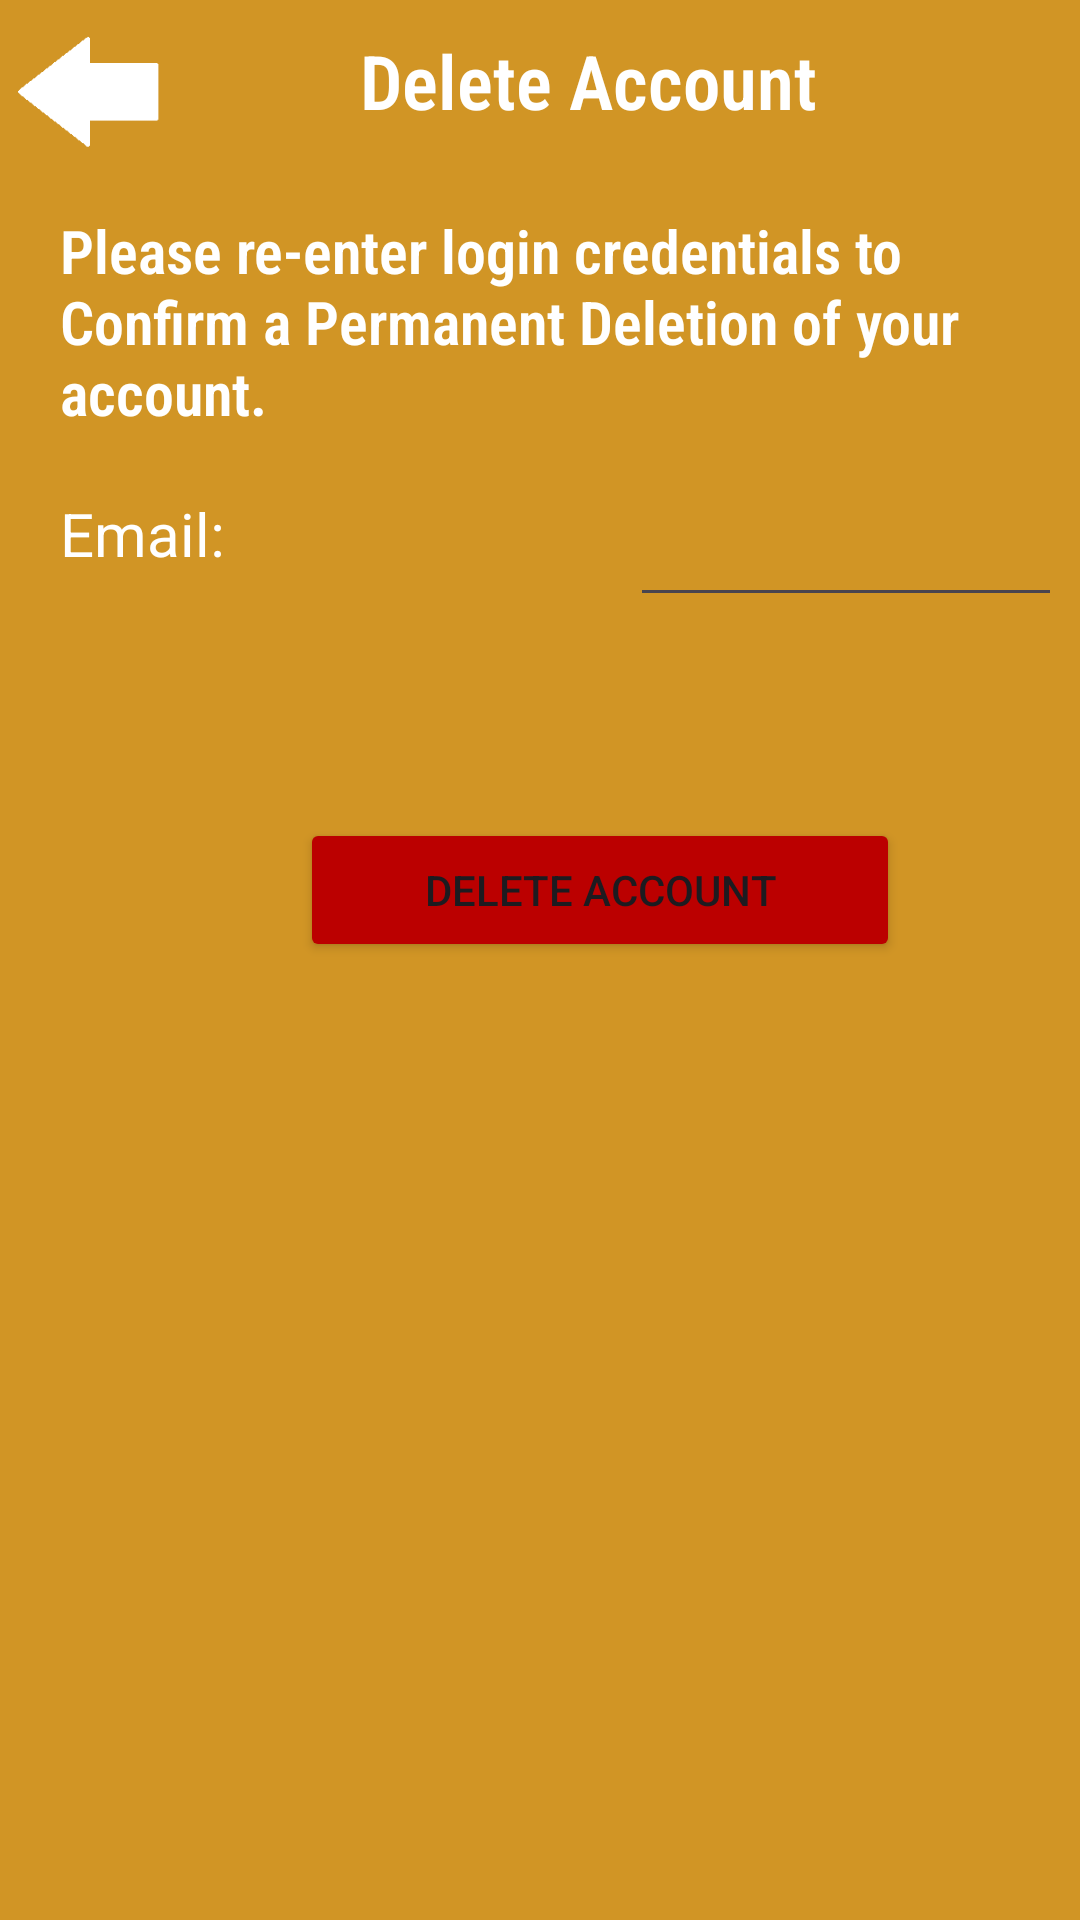

Icon click points for this 1080×1920 phone screenshot, format point (x, y):
backarrow: point (88, 92)
